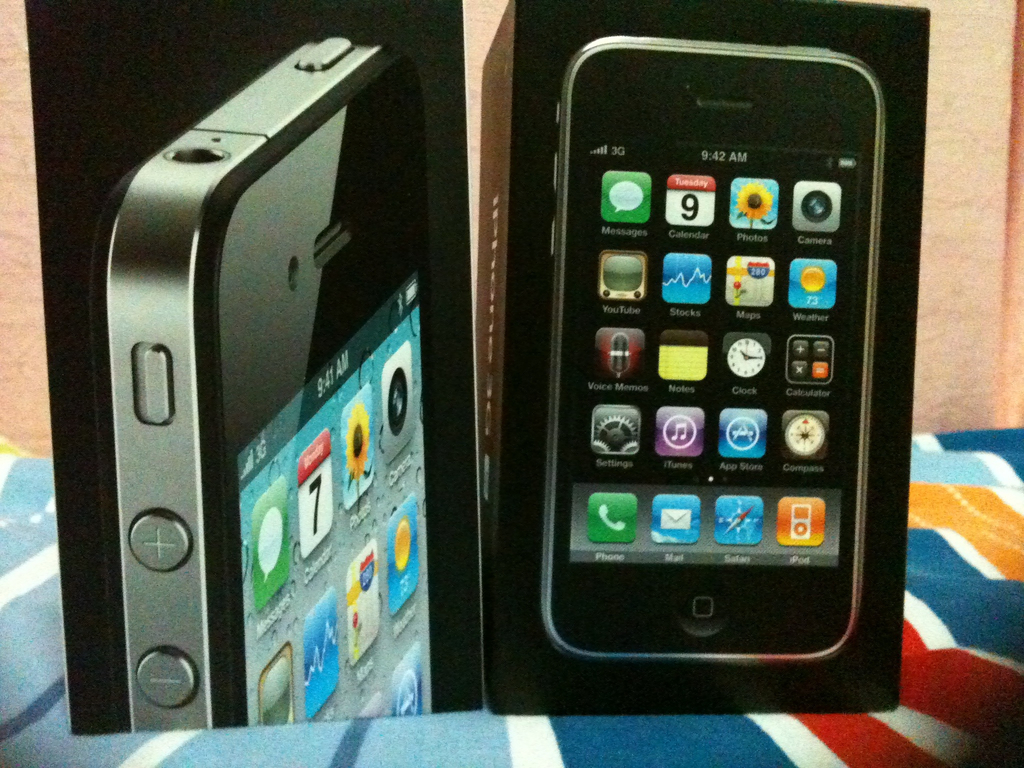Mobile-phone: (93, 33, 437, 734), (543, 39, 886, 662)
